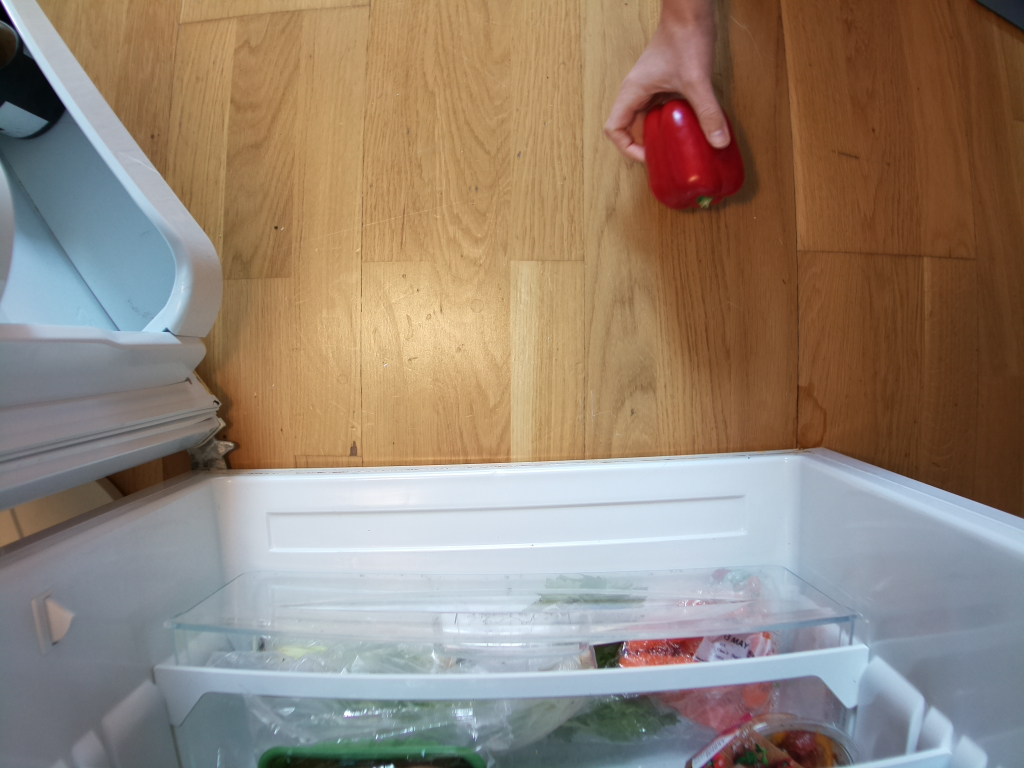pepper: (640, 98, 747, 215)
